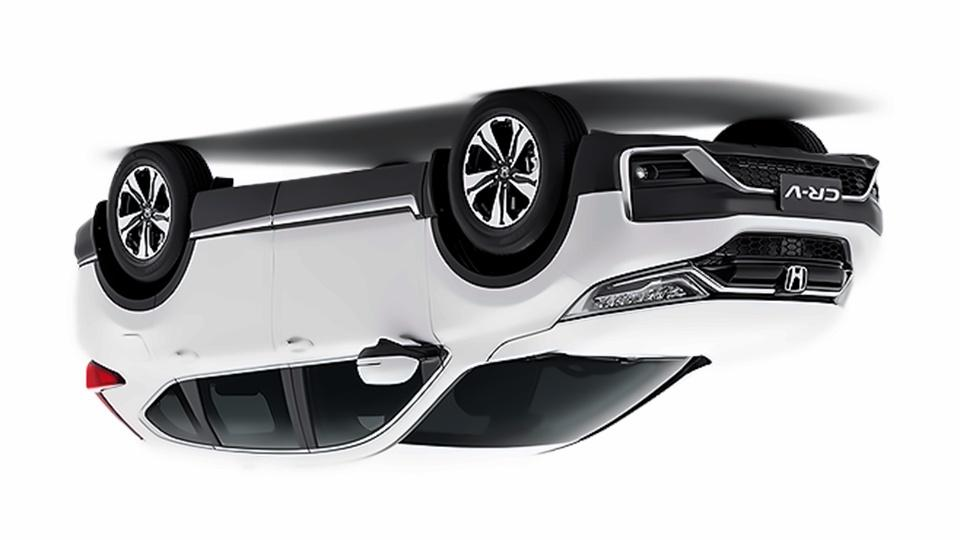Car hood: (489, 294, 851, 365)
Fender - -F-L-: (412, 175, 604, 377)
Fender - -R-L-: (78, 214, 230, 419)
Front bumper: (558, 124, 884, 277)
Headlight - -L-: (551, 265, 720, 325)
Passenger-s door - -F-L-: (265, 144, 446, 468)
Passenger-s door - -R-L-: (127, 151, 326, 463)
Rear bumper: (60, 203, 129, 268)
Rear light - -L-: (83, 356, 133, 399)
Side bumper - -L-: (185, 145, 438, 285)
Side mirror - -L-: (355, 338, 436, 391)
